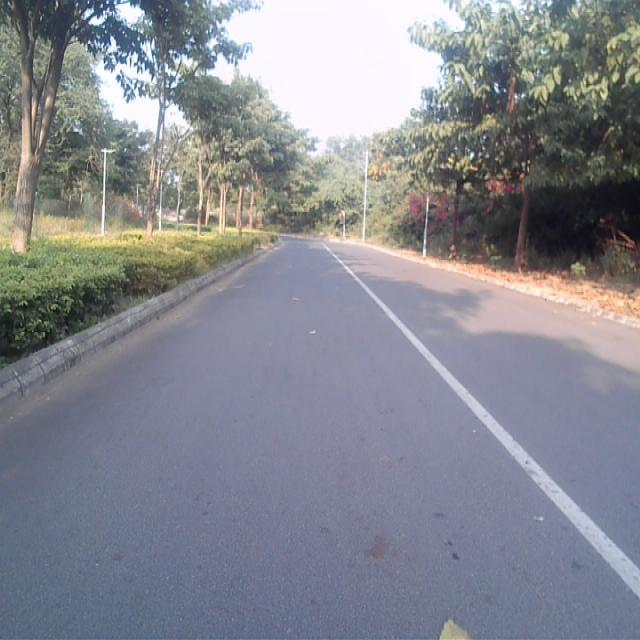lane: (0, 243, 640, 640)
